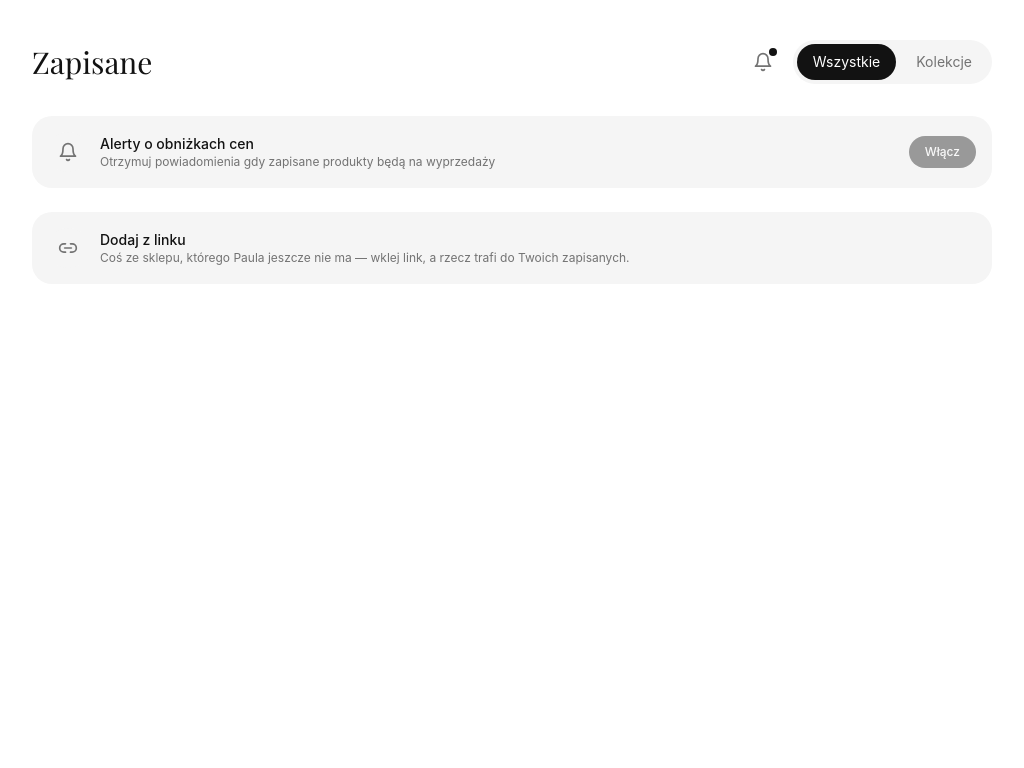
Test case: kolekcje › zaczyna od pustego stanu, a nie od czterech cudzych kolekcji
Click the button "Kolekcje": click(944, 62) [900, 44, 988, 80]
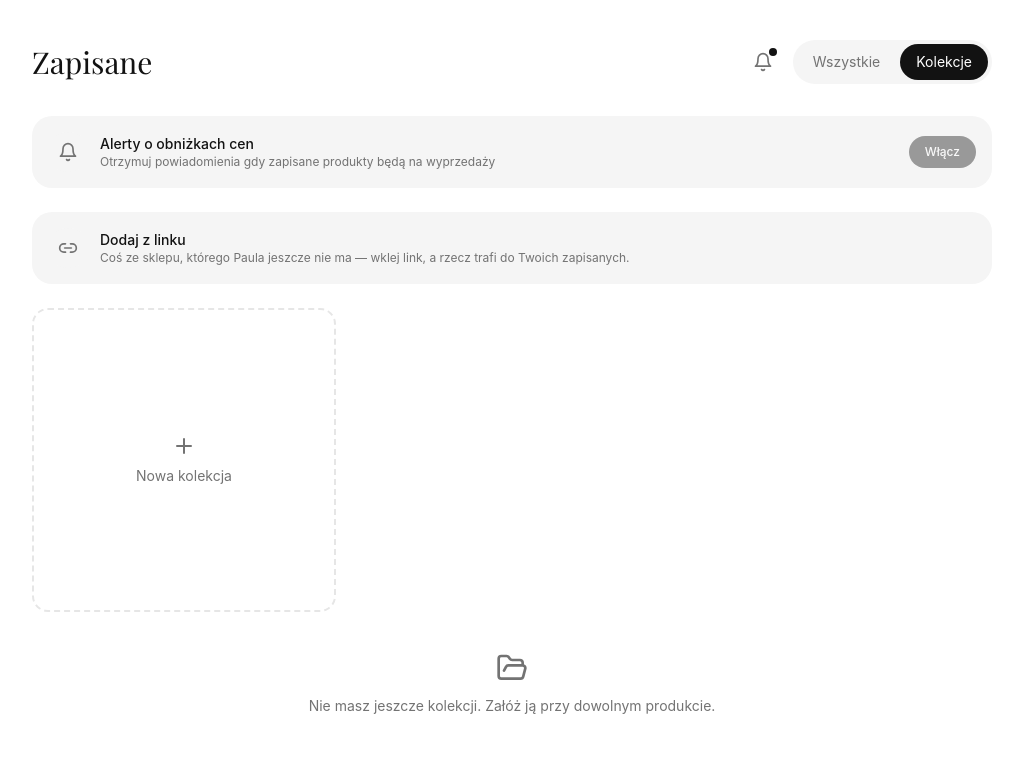
expect the text "Nie masz jeszcze kolekcji. Załóż ją przy dowolnym produkcie." is shown: met, box [309, 697, 715, 714]
